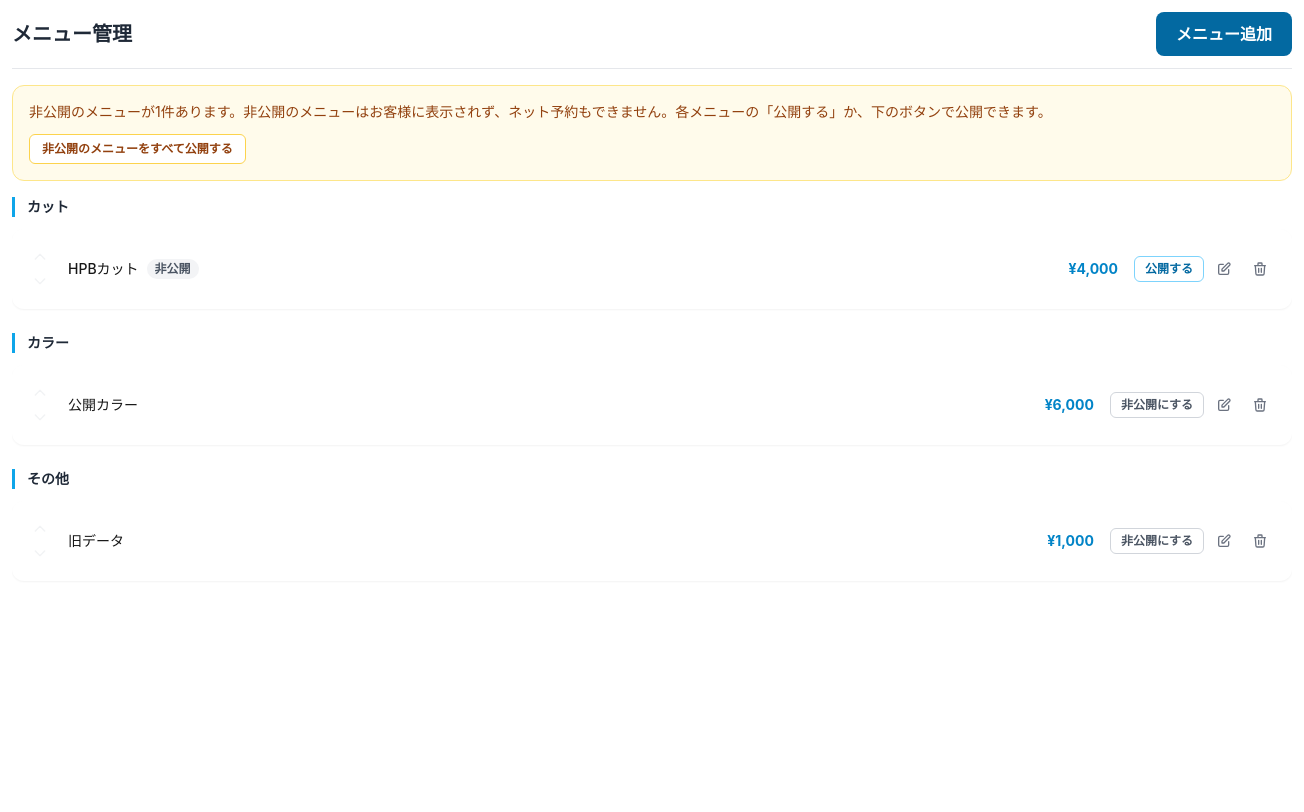
it: 公開を押すと is_published だけを選択中の店舗へ送り、一覧を読み直す
expect the text "HPBカット" is shown: met, box [68, 259, 139, 279]
Click the button with aria-label "HPBカットを公開する".
click(1169, 269)  # box [1134, 256, 1204, 282]
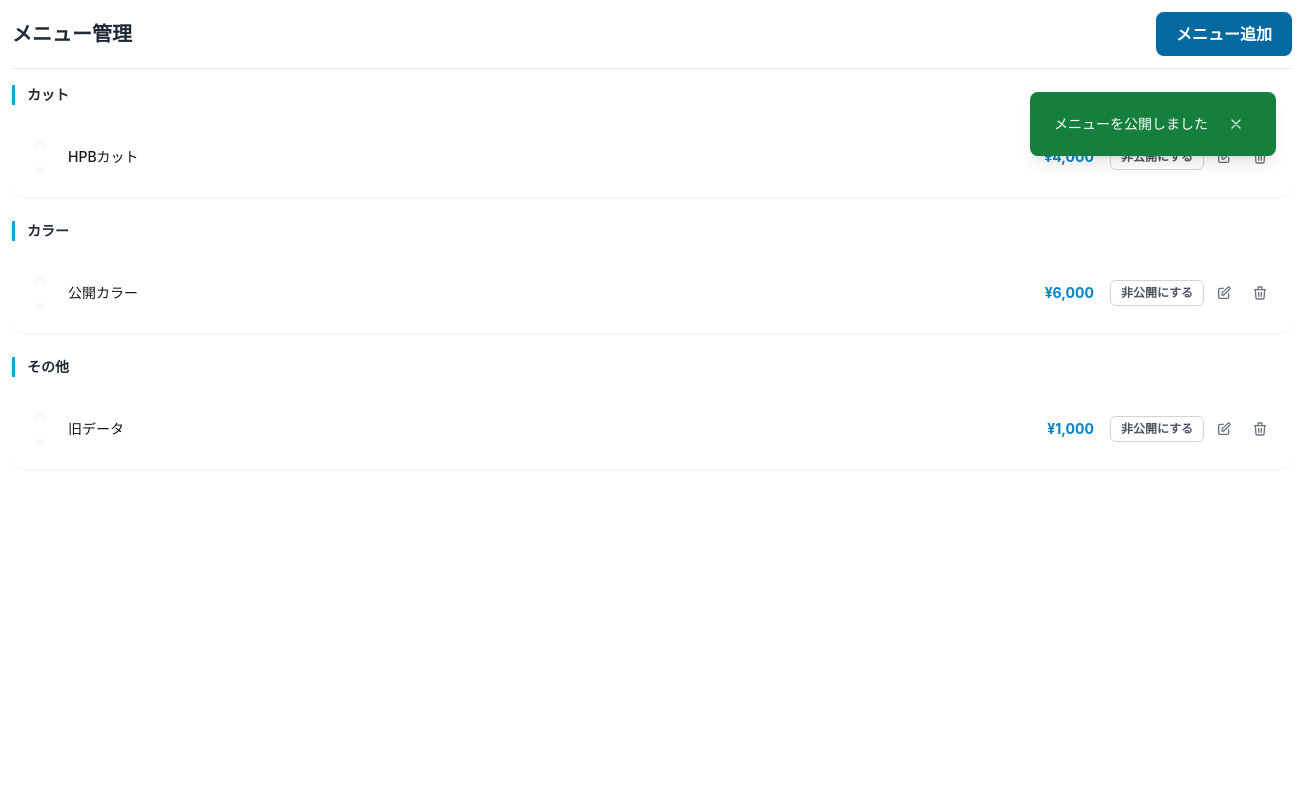
expect the text "メニューを公開しました" is shown: met, box [1054, 114, 1208, 134]
expect the text "非公開のメニューが" is gone: met
